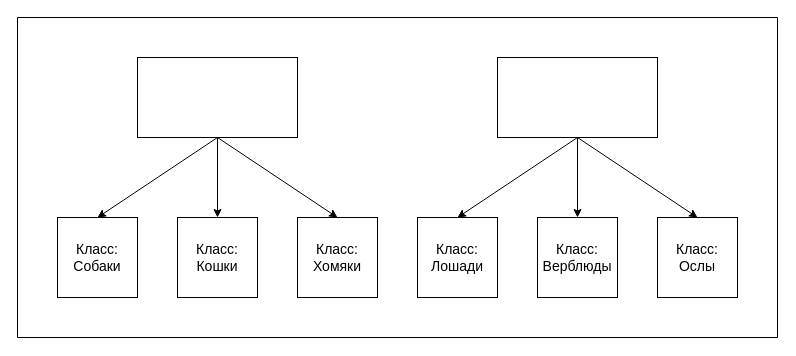
The diagram is 796 pixels wide and 356 high, and some of its shapes have lost their labels. The centre of each missing label's shape, as x and y in pixels:
"Класс: Вьючные животные" goes at pixel 577 97.
"Класс: Домашние животные" goes at pixel 217 97.
